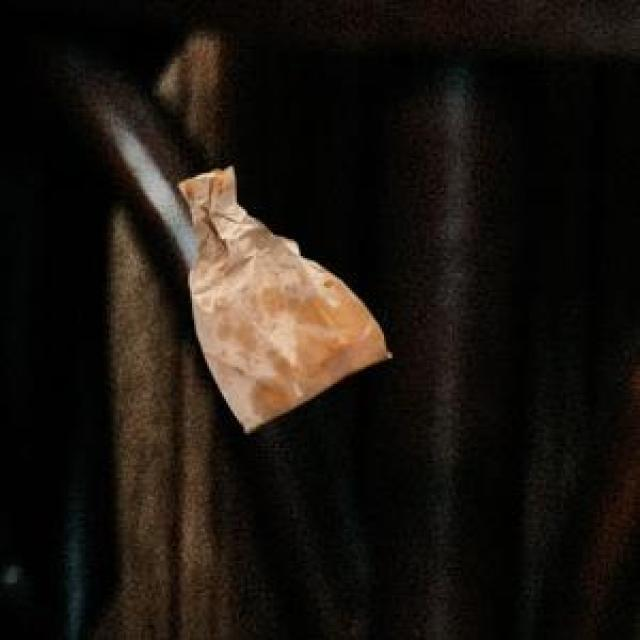paper: (175, 162, 386, 429)
